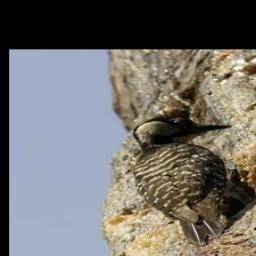Woodpecker: (131, 114, 256, 249)
